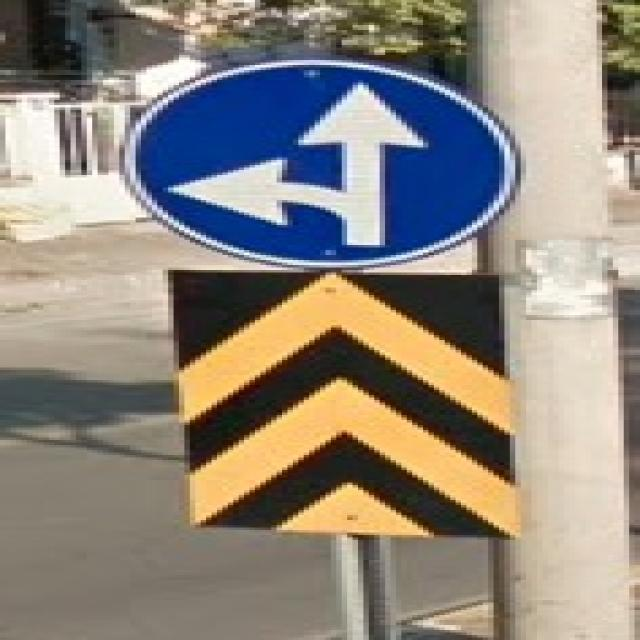Straight or Left: (118, 59, 525, 269)
